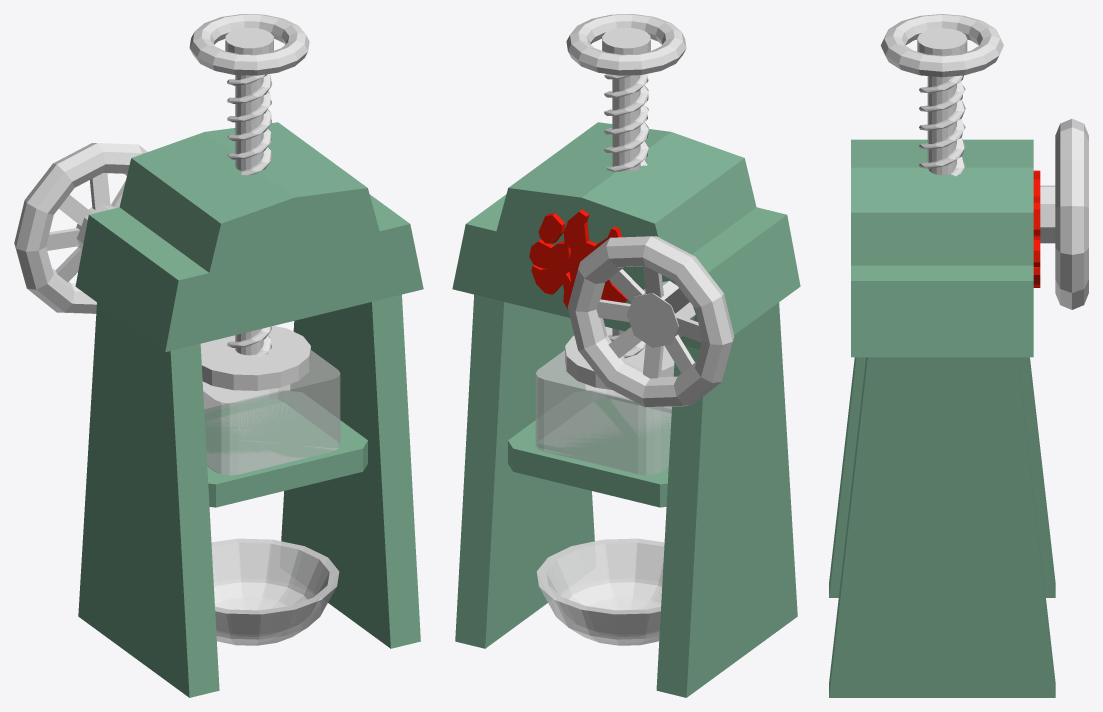
The model's file is kakigori 1.fbx.
3 views of the same model, side by side, from view 1: azimuth 30°, elevation 25°; view 2: azimuth 150°, elevation 25°; view 3: azimuth 270°, elevation 25° (orthographic).
Parts seen in each view (by area): view 1: body.001, rotate, ice, bowl, handle; view 2: body.001, handle, rotate, bowl, ice, body.002; view 3: body.001, rotate, handle, body.002.
Part boxes in pixels (x1,y1,x2,y2): body.001: (75, 122, 423, 697); rotate: (189, 14, 310, 390); ice: (202, 350, 340, 475); bowl: (211, 538, 339, 645); handle: (14, 143, 147, 313); body.001: (452, 122, 800, 697); handle: (567, 236, 734, 407); rotate: (565, 14, 686, 389); bowl: (536, 538, 664, 645); ice: (535, 350, 671, 475); body.002: (529, 209, 627, 309); body.001: (829, 139, 1055, 697); rotate: (880, 14, 1003, 176); handle: (1040, 118, 1088, 309); body.002: (1033, 170, 1040, 287).
Bounding box in the file's own units: 124 × 319 × 168.
